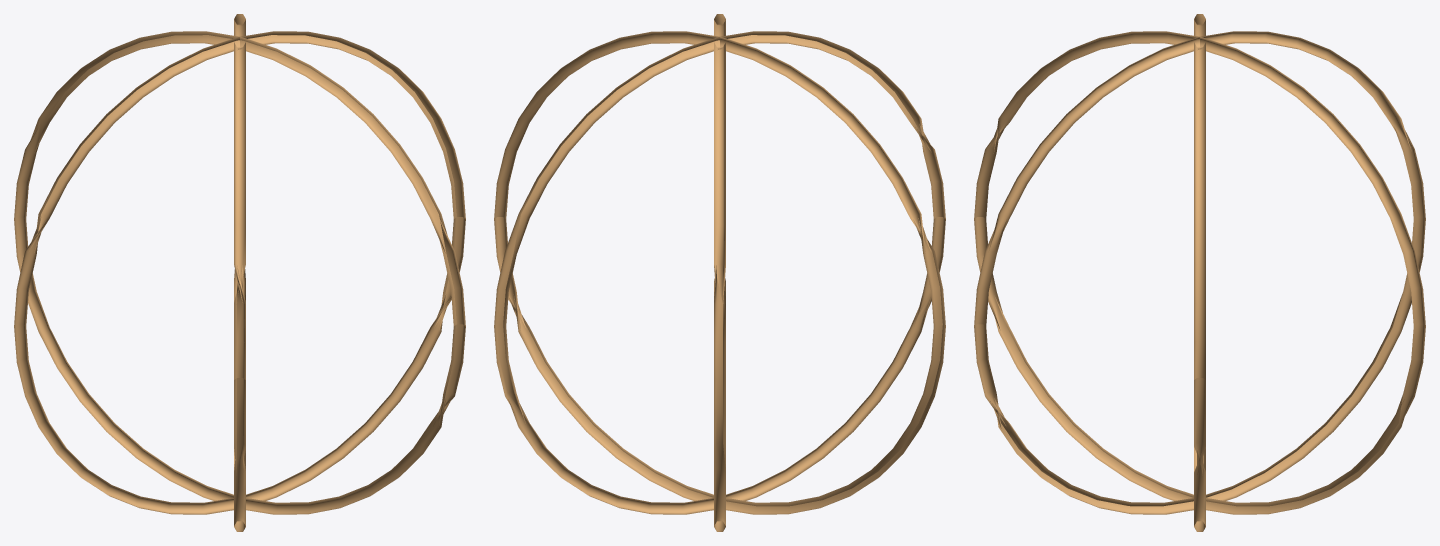
The model's file is projects-signature.gltf.
3 views of the same model, side by side, from view 1: azimuth 30°, elevation 25°; view 2: azimuth 150°, elevation 25°; view 3: azimuth 270°, elevation 25° (orthographic).
Parts seen in each view (by area): view 1: projects-signature; view 2: projects-signature; view 3: projects-signature.
Part boxes in pixels (x1,y1,x2,y2): projects-signature: (14, 14, 465, 531); projects-signature: (494, 14, 945, 531); projects-signature: (974, 14, 1425, 531).
Size of the model in its own units: 2.21 by 2.21 by 1.92.
